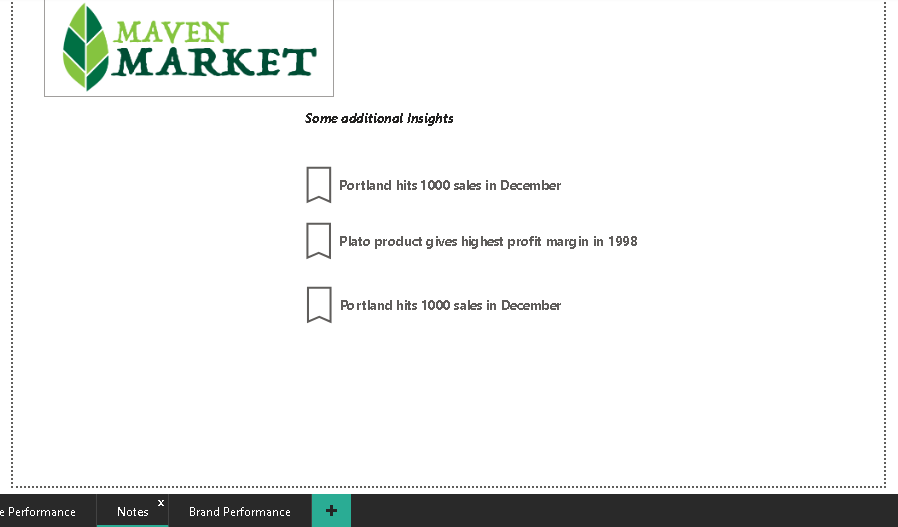

This screenshot's page, from the dashboard's own definition file:
{"tool":"powerbi","page":{"name":"Notes","canvas":[1280,720],"ordinal":1},"visuals":[{"type":"actionButton","title":"Portland hits 1000 sales in December","box":[233.6,236.6,758.2,82.3],"z":0},{"type":"image","box":[46.3,0,425.1,148.9],"z":1000},{"type":"actionButton","title":"Portland hits 1000 sales in December","box":[317.4,318.9,702.4,82.3],"z":2000},{"type":"actionButton","title":"Portland hits 1000 sales in December","box":[207.2,412.9,812.6,82.3],"z":3000},{"type":"textbox","box":[424.7,161.6,483.4,41.1],"z":4000}]}

Visuals, with their boxes on the page's 1280x720 design canvas (x1, y1, x2, y2). These are canvas units, not pixel positions in the 898x527 screenshot, which may show the page scaled, cropped or inside an application window:
"Portland hits 1000 sales in December" actionButton: (234, 237, 992, 319)
image: (46, 0, 471, 149)
"Portland hits 1000 sales in December" actionButton: (317, 319, 1020, 401)
"Portland hits 1000 sales in December" actionButton: (207, 413, 1020, 495)
textbox: (425, 162, 908, 203)
